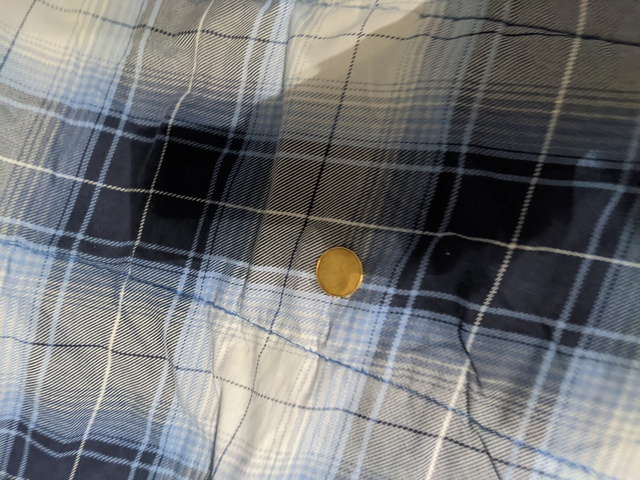loonie: (309, 238, 366, 304)
